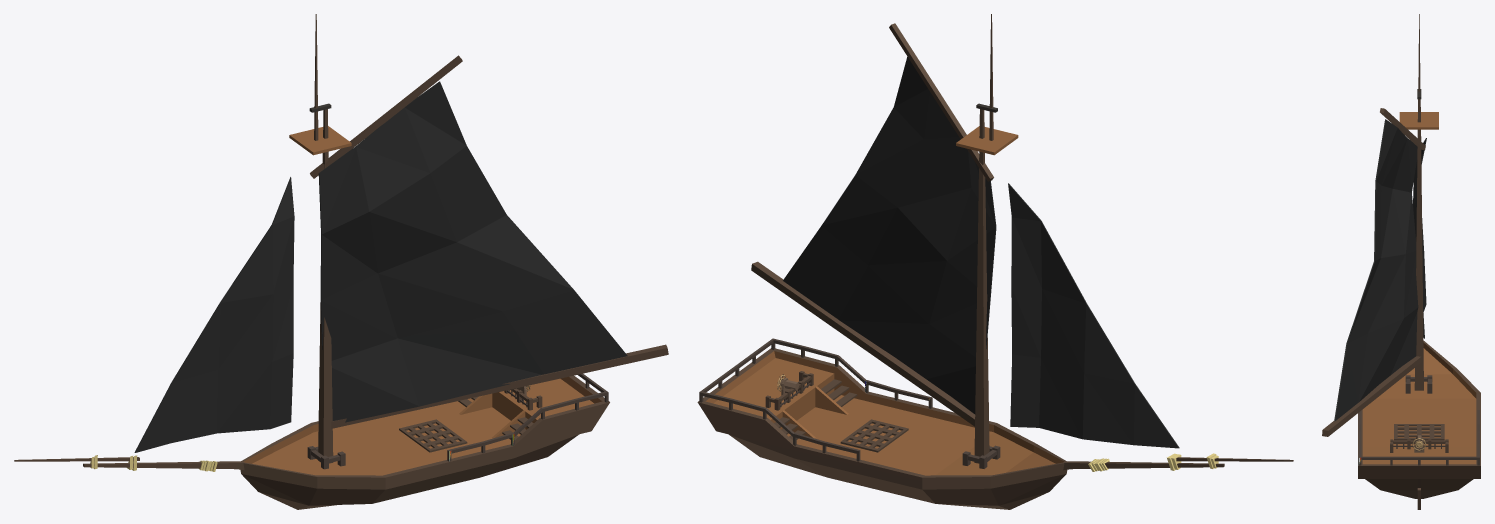
The model's file is schooner.obj.
3 renders of one model, left to right at view 1: azimuth 30°, elevation 25°; view 2: azimuth 150°, elevation 25°; view 3: azimuth 270°, elevation 25°, orthographic. The views are drawn at different scales.
Parts seen in each view (by area): view 1: Sail, Body, Mast; view 2: Sail, Body, Mast; view 3: Body, Sail, Mast.
Boxes of the visible parts, box(x1,y1,x2,y2) form: Sail: box(134, 81, 627, 452); Body: box(14, 373, 609, 509); Mast: box(289, 14, 668, 463); Sail: box(783, 57, 1179, 448); Body: box(697, 338, 1293, 509); Mast: box(751, 14, 1018, 463); Body: box(1358, 340, 1480, 509); Sail: box(1334, 119, 1426, 421); Mast: box(1322, 14, 1438, 436).
Size of the model in its own units: 388 by 307 by 108.
1 material, 1 textured.
